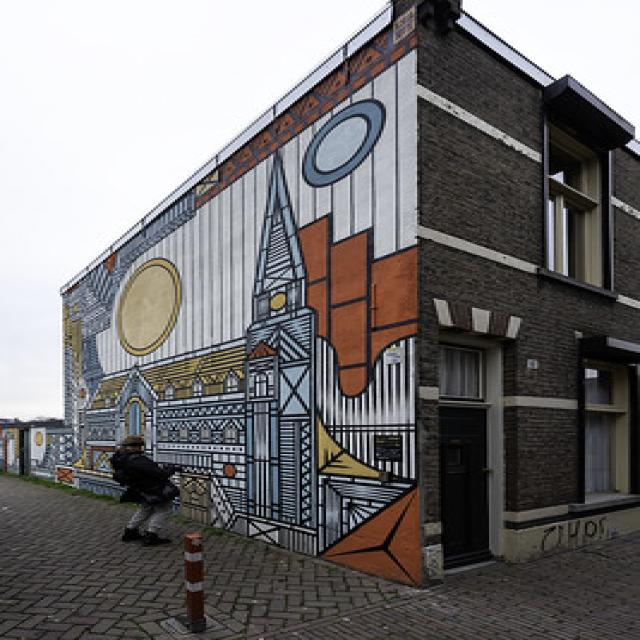Normal_building: (49, 11, 639, 590)
